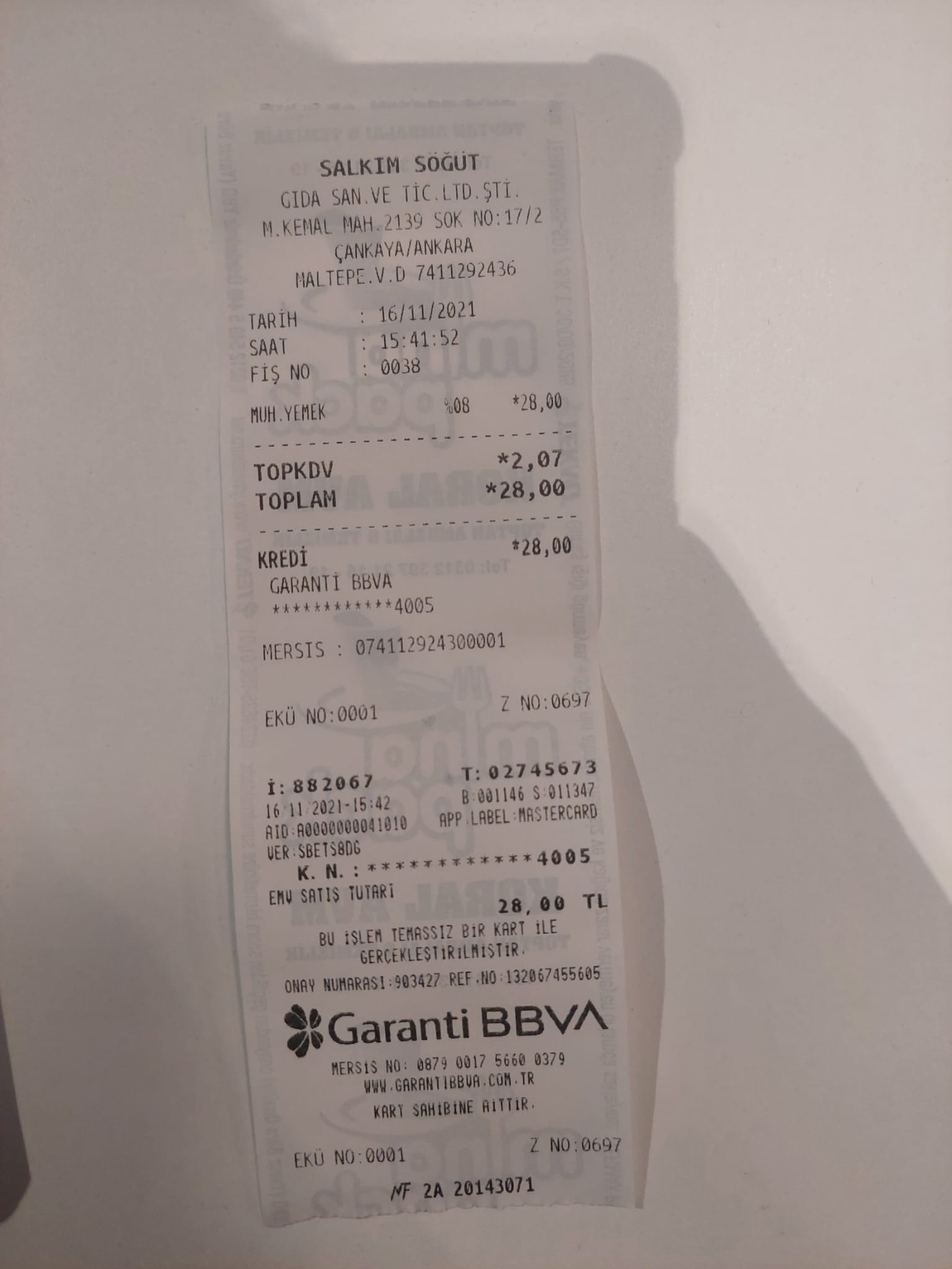date: (494, 476, 578, 507)
price: (373, 297, 480, 329)
workplace: (252, 137, 566, 266)
